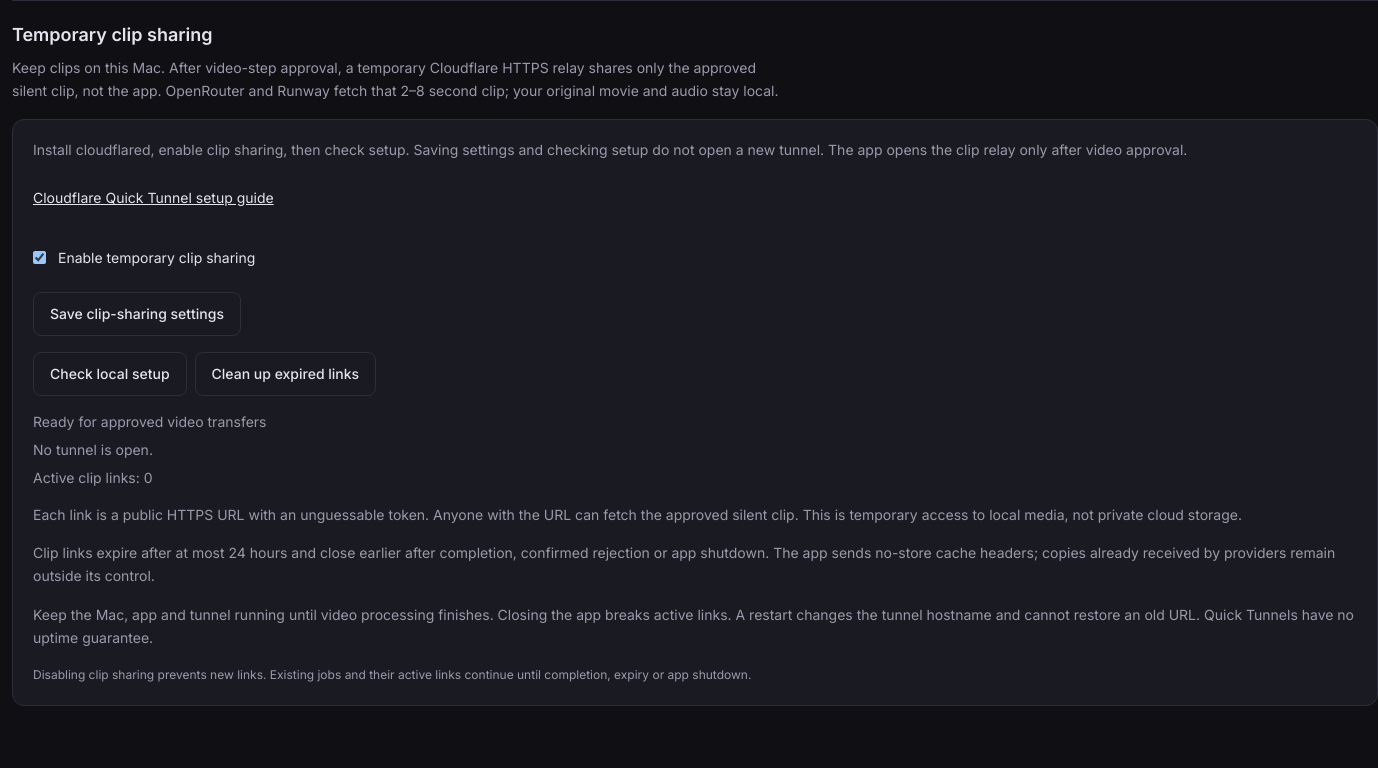
Scenario: explains the confirmed sharing error clip_host_binary_missing even when the binary is installed
This screenshot has width=1378, height=768.
Click the button "Check local setup": (110, 374) [33,352,187,396]
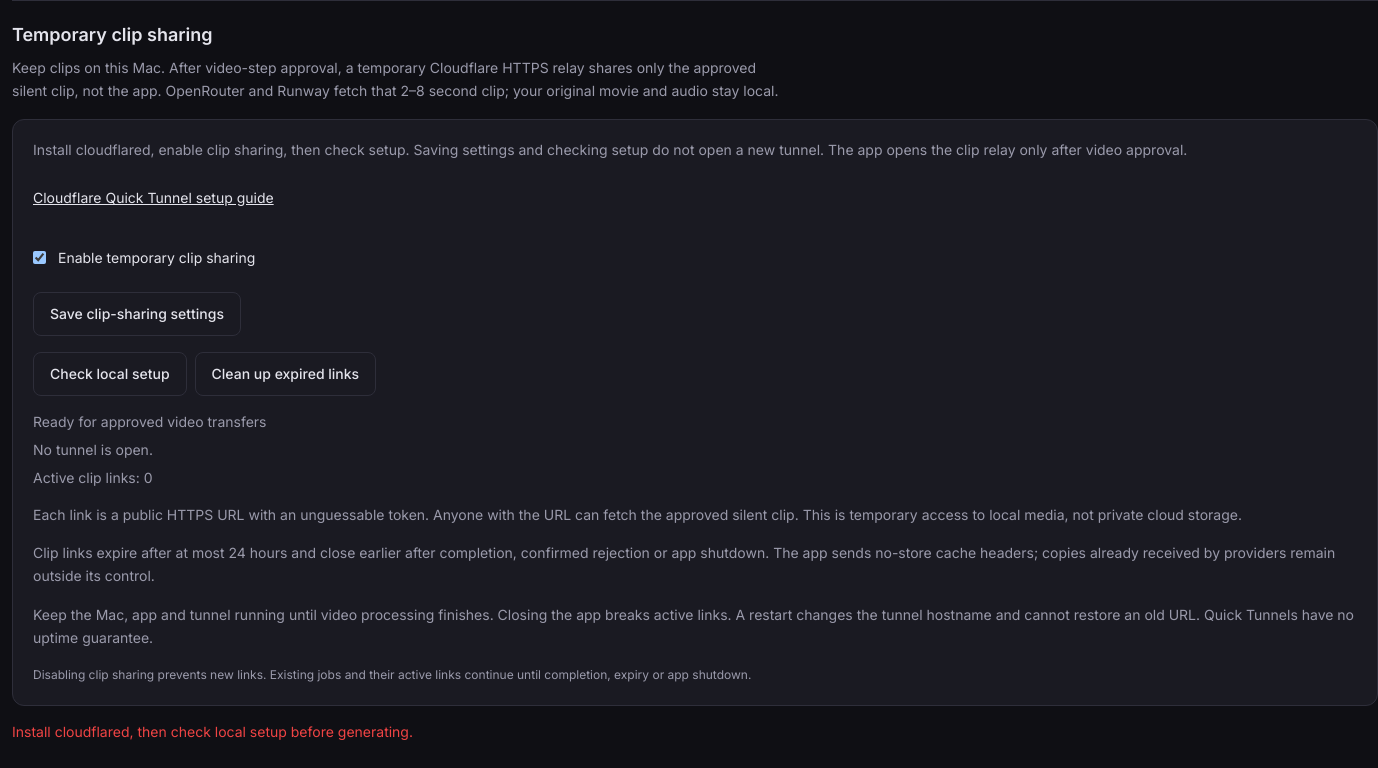
Now the message "Install cloudflared, then check local setup before generating." is shown, box [12,723,413,740]
